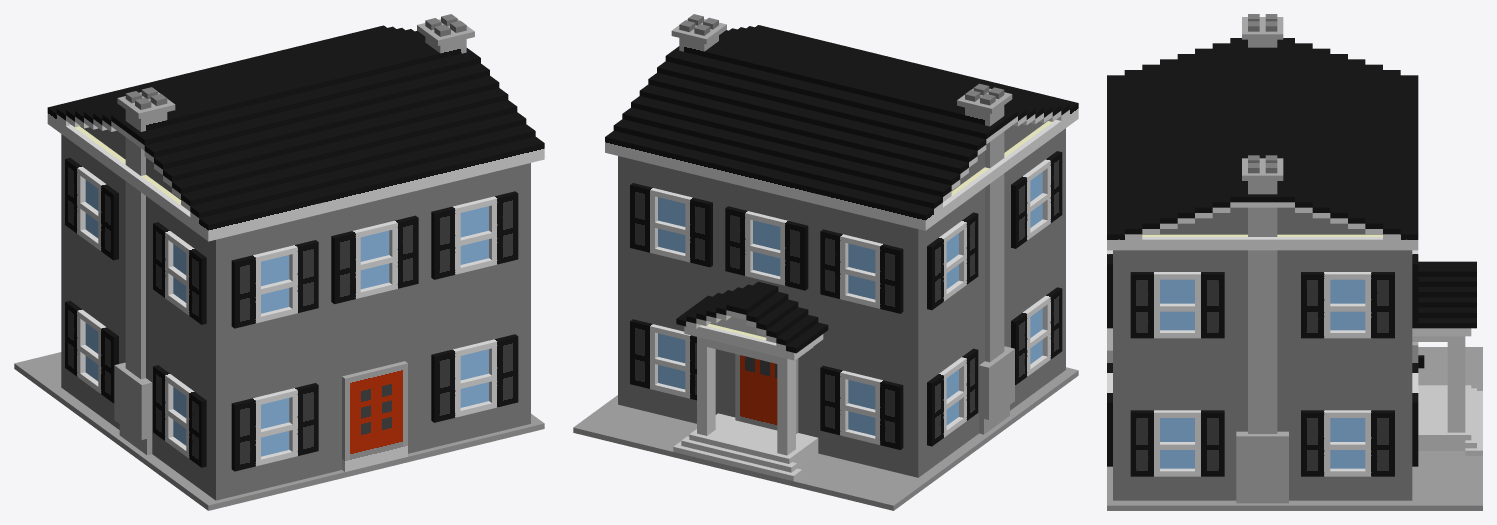
The model's file is obj_house4d.fbx.
3 renders of one model, left to right at view 1: azimuth 30°, elevation 25°; view 2: azimuth 150°, elevation 25°; view 3: azimuth 270°, elevation 25°, orthographic. The views are drawn at different scales.
Visible parts, largest first — view 1: obj_house4d; view 2: obj_house4d; view 3: obj_house4d.
Boxes of the visible parts, x1,y1,x2,y2 form: obj_house4d: (14, 14, 544, 510); obj_house4d: (573, 14, 1078, 510); obj_house4d: (1107, 14, 1482, 510).
Size of the model in its own units: 6.4 by 6.4 by 6.4.
Materials: 1 (1 with a texture image).
